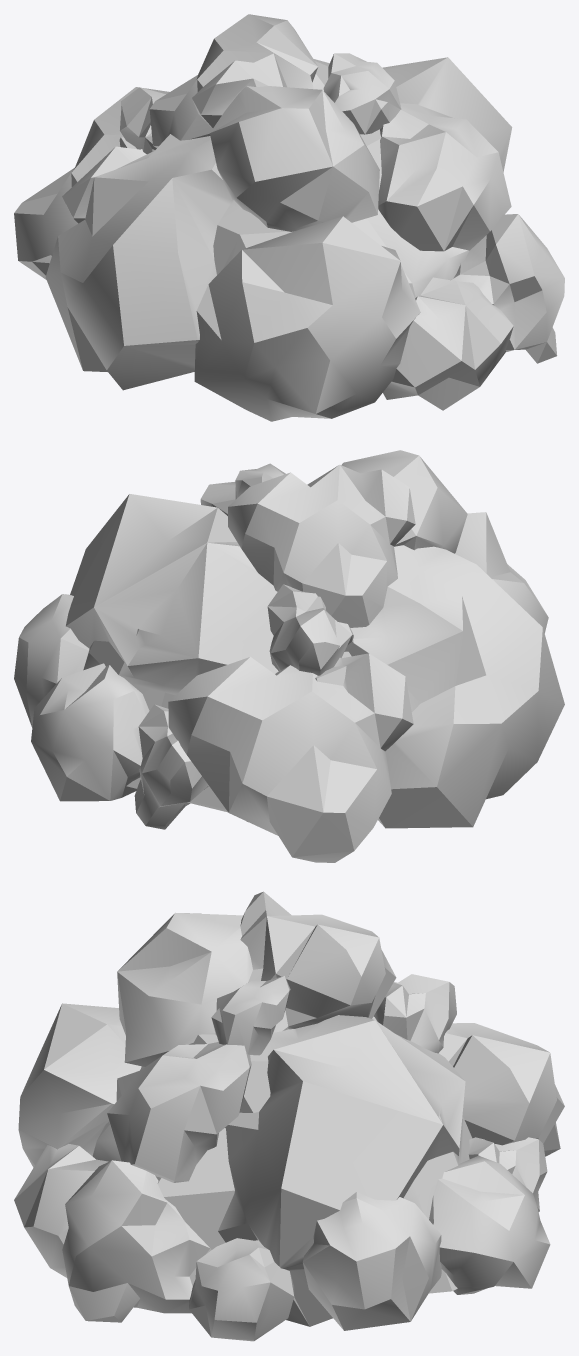
Rendered from Regolith.fbx.
3 renders of one model, top to bottom at view 1: azimuth 30°, elevation 25°; view 2: azimuth 150°, elevation 25°; view 3: azimuth 270°, elevation 25°, orthographic. The views are drawn at different scales.
Visible parts, largest first — view 1: Regolith; view 2: Regolith; view 3: Regolith.
Boxes of the visible parts, x1,y1,x2,y2 form: Regolith: (14,14,564,421); Regolith: (14,450,564,862); Regolith: (14,891,564,1341).
Bounding box in the file's own units: 96.94 × 61.75 × 94.5.
